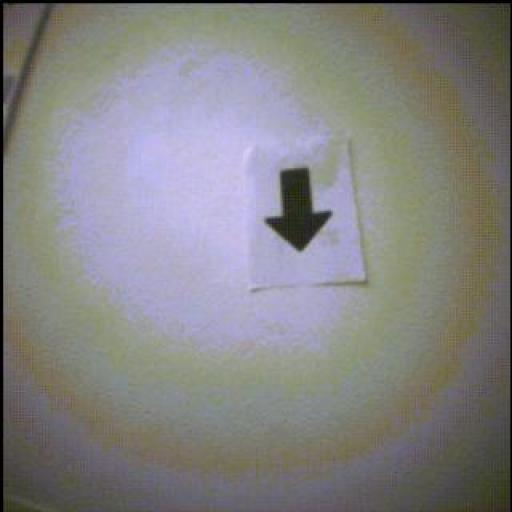arrow: (267, 169, 332, 252)
